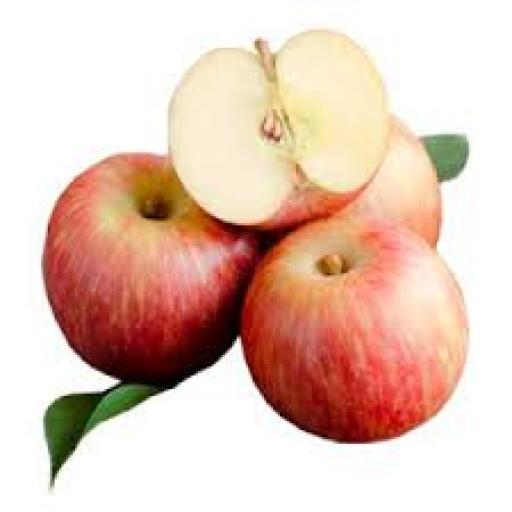apple: (242, 214, 466, 441), (44, 153, 259, 382), (169, 30, 389, 229), (342, 119, 441, 245)
